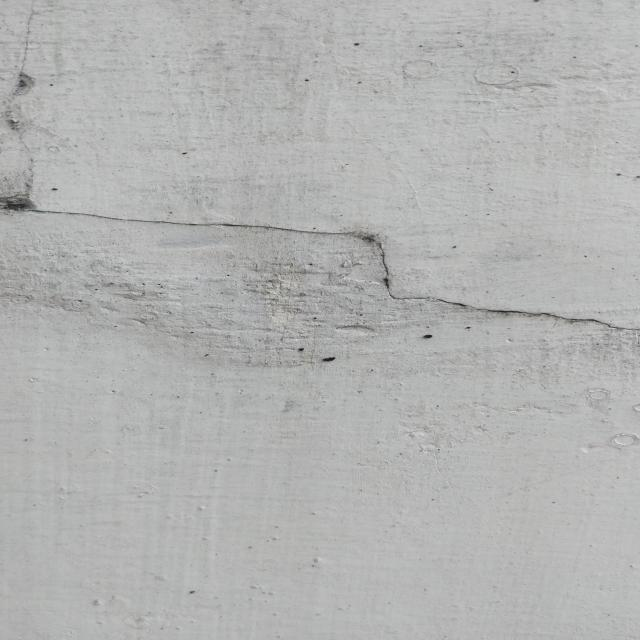Crack: (5, 80, 640, 334)
